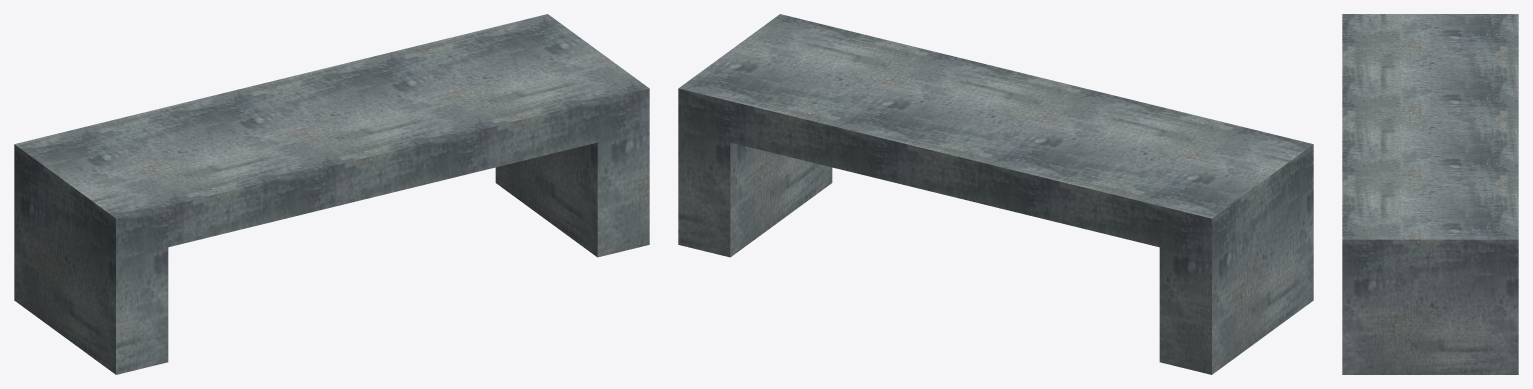
The model's file is mesa.FBX.
3 renders of one model, left to right at view 1: azimuth 30°, elevation 25°; view 2: azimuth 150°, elevation 25°; view 3: azimuth 270°, elevation 25°, orthographic. The views are drawn at different scales.
Visible parts, largest first — view 1: mesa; view 2: mesa; view 3: mesa.
Part boxes in pixels (x1=…): mesa: x1=14, y1=14, x2=649, y2=374; mesa: x1=678, y1=14, x2=1313, y2=374; mesa: x1=1342, y1=14, x2=1518, y2=374.
Bounding box in the file's own units: 68.89 × 19.29 × 22.76.
